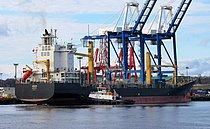Ship: (13, 17, 202, 106)
